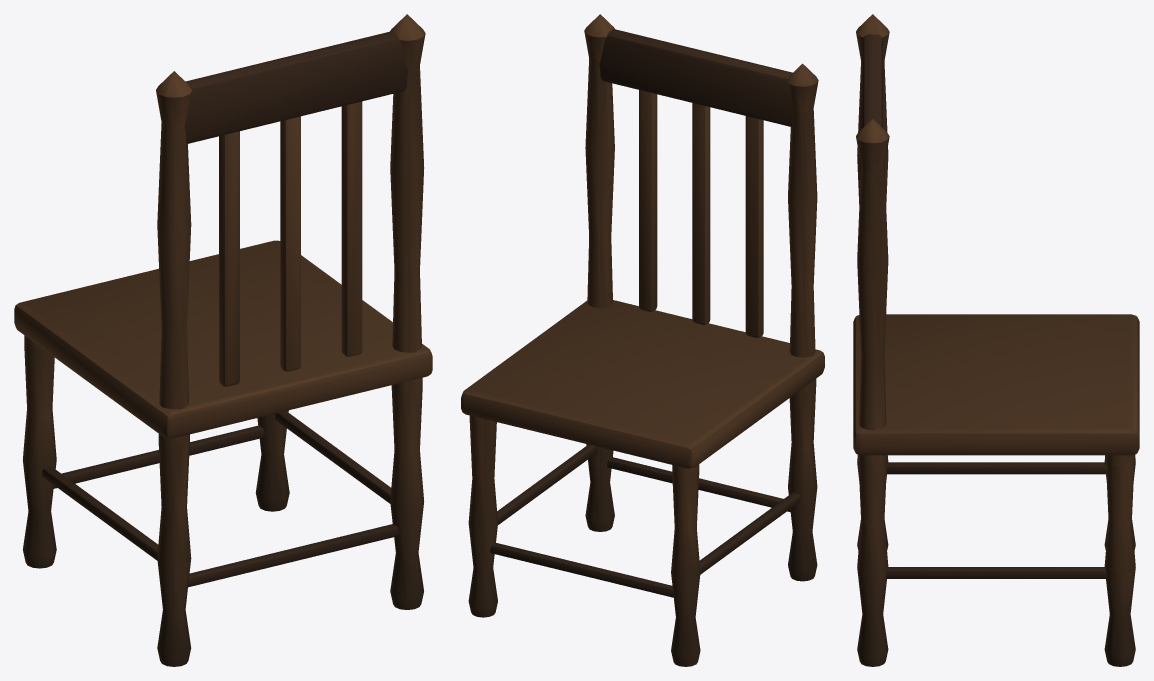
File: Chair.glb
3 views of the same model, side by side, from view 1: azimuth 30°, elevation 25°; view 2: azimuth 150°, elevation 25°; view 3: azimuth 270°, elevation 25° (orthographic). The views are drawn at different scales.
Visible parts, largest first — view 1: Chair_wood, Chair_wood_dark; view 2: Chair_wood, Chair_wood_dark; view 3: Chair_wood, Chair_wood_dark.
Boxes of the visible parts, x1=… form: Chair_wood: x1=14, y1=14, x2=432, y2=666; Chair_wood_dark: x1=42, y1=31, x2=408, y2=587; Chair_wood: x1=461, y1=14, x2=824, y2=666; Chair_wood_dark: x1=490, y1=29, x2=800, y2=597; Chair_wood: x1=853, y1=14, x2=1139, y2=666; Chair_wood_dark: x1=862, y1=34, x2=1106, y2=578.
Bounding box in the file's own units: 2.2 × 4.6 × 2.2.
